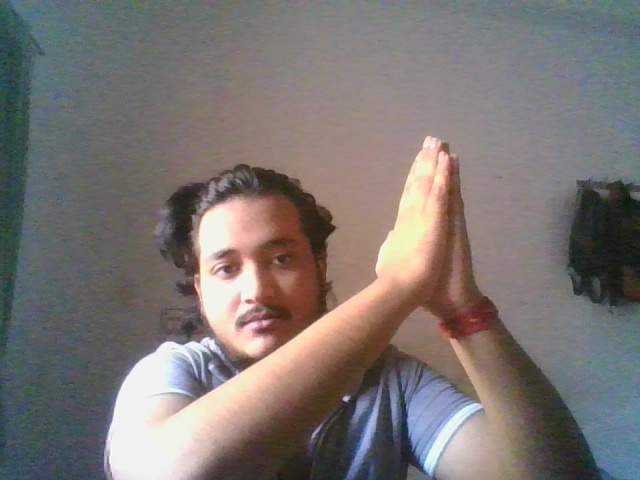ThankYou: (374, 134, 475, 313)
